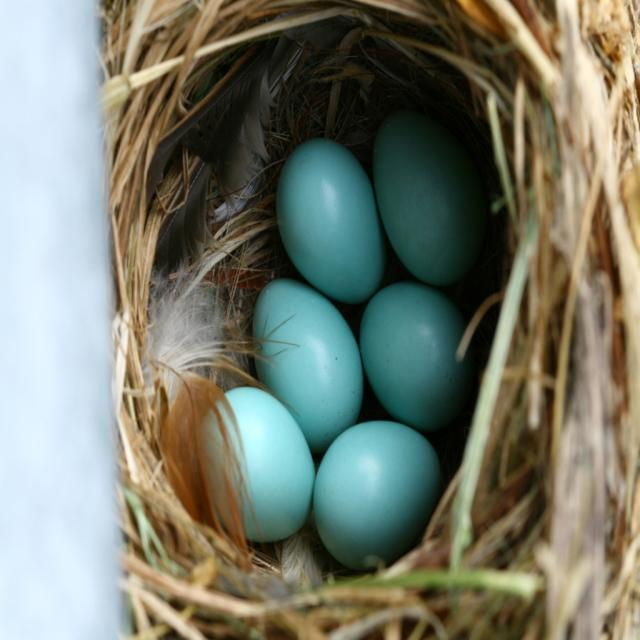Egg: (196, 105, 494, 570)
